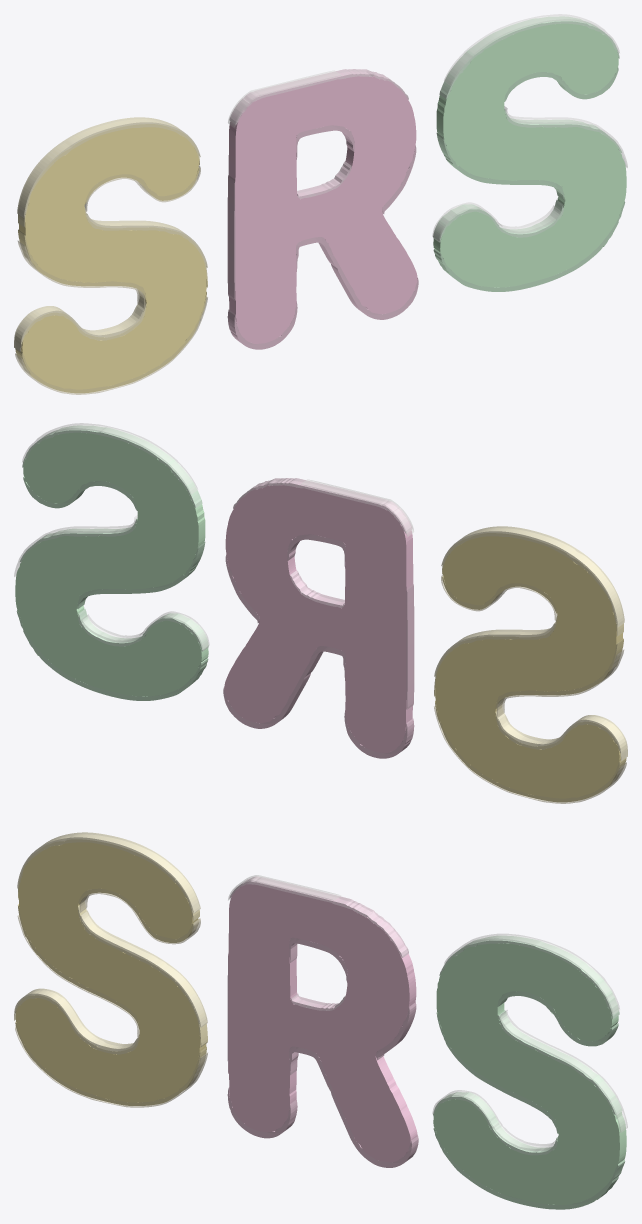
3 renders of one model, top to bottom at view 1: azimuth 30°, elevation 25°; view 2: azimuth 150°, elevation 25°; view 3: azimuth 330°, elevation 25°, orthographic.
Visible parts, largest first — view 1: Node1, Node2, Node3, Node25, Node22, Node28, Node4, Node23, Node19, Node26, Node8, Node13 (+16 smaller); view 2: Node1, Node2, Node3, Node25, Node22, Node28, Node4, Node23, Node19, Node26, Node8, Node13 (+16 smaller); view 3: Node1, Node2, Node3, Node28, Node22, Node25, Node27, Node6, Node24, Node4, Node23, Node8 (+15 smaller).
Boxes of the visible parts, x1,y1,x2,y2 form: Node1: [228, 72, 417, 343]; Node2: [433, 23, 626, 287]; Node3: [19, 127, 206, 389]; Node25: [17, 117, 200, 217]; Node22: [439, 16, 619, 98]; Node28: [229, 69, 408, 124]; Node4: [444, 14, 619, 85]; Node23: [433, 200, 563, 242]; Node19: [18, 119, 199, 227]; Node26: [14, 304, 144, 351]; Node8: [296, 237, 418, 319]; Node13: [433, 201, 625, 291]; Node1: [224, 481, 413, 752]; Node2: [15, 432, 208, 696]; Node3: [435, 536, 622, 798]; Node25: [441, 526, 624, 626]; Node22: [22, 425, 202, 507]; Node28: [233, 478, 412, 533]; Node4: [22, 423, 197, 494]; Node23: [78, 609, 208, 651]; Node19: [442, 528, 623, 636]; Node26: [497, 713, 627, 760]; Node8: [223, 646, 345, 728]; Node13: [16, 610, 208, 700]; Node1: [228, 882, 417, 1162]; Node2: [433, 943, 626, 1204]; Node3: [15, 842, 206, 1102]; Node28: [229, 876, 408, 957]; Node22: [439, 935, 619, 1019]; Node25: [17, 832, 200, 913]; Node27: [80, 910, 207, 1027]; Node6: [500, 1010, 627, 1132]; Node24: [497, 1010, 622, 1115]; Node4: [444, 934, 619, 1014]; Node23: [433, 1092, 557, 1155]; Node8: [289, 1046, 418, 1167].
Bounding box in the file's own units: 261 × 108 × 5.
